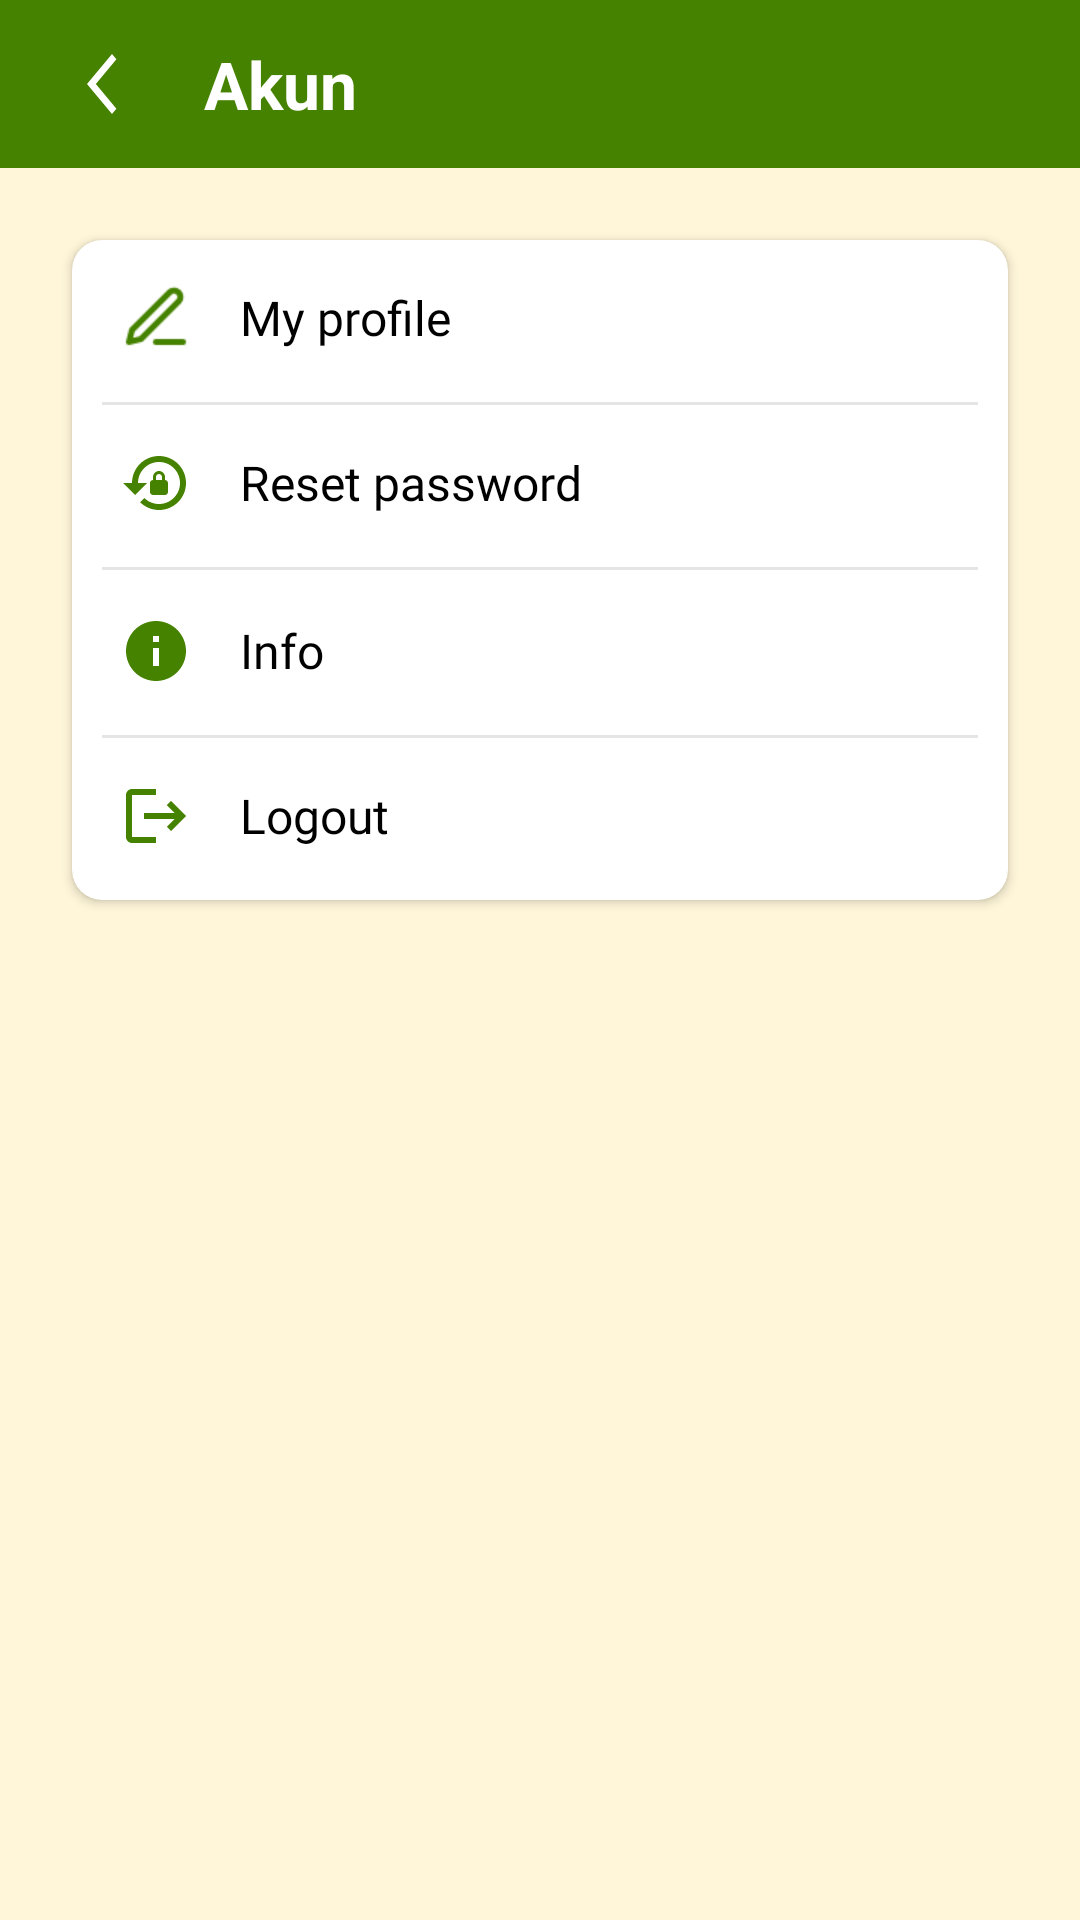

Screen size 1080px x 1920px. Icon name, then its center in pixels as (x=x, y=y):
arrow back: (x=102, y=84)
basline edit akun: (x=156, y=316)
lock reset: (x=154, y=483)
